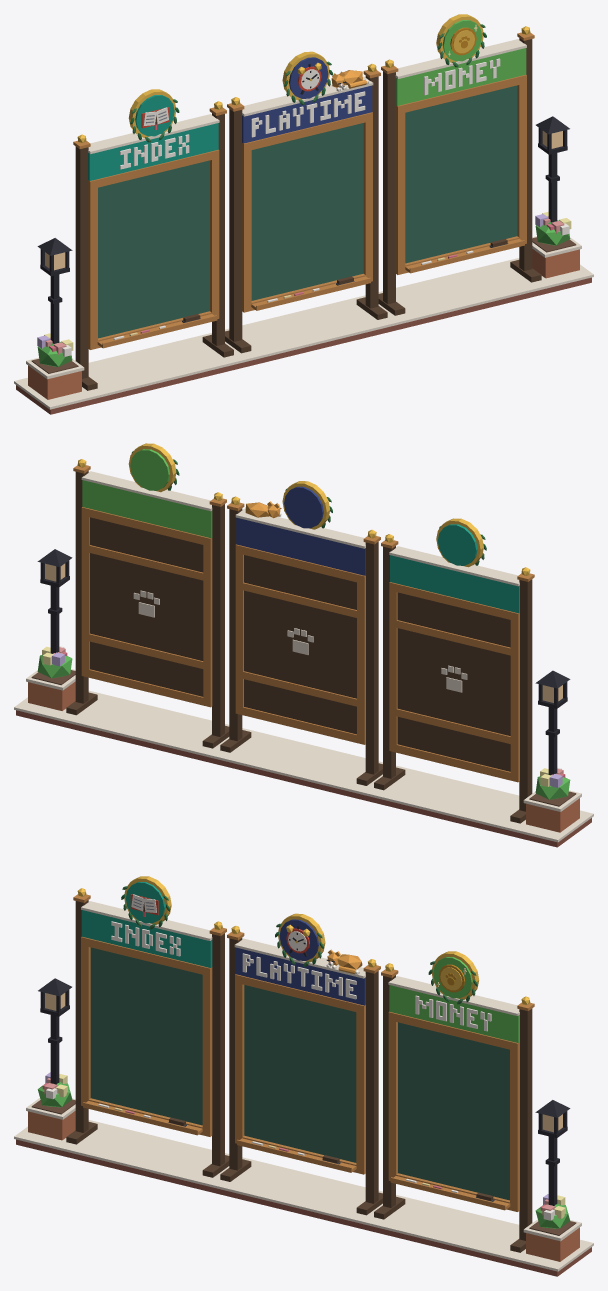
The model's file is CatCafe_Town_LeaderboardRow.glb.
3 renders of one model, top to bottom at view 1: azimuth 30°, elevation 25°; view 2: azimuth 150°, elevation 25°; view 3: azimuth 330°, elevation 25°, orthographic.
Visible parts, largest first — view 1: CatCafe_Town_LeaderboardRow, CatCafe_Town_LeaderboardRow_Playtime, CatCafe_Town_LeaderboardRow_Money, CatCafe_Town_LeaderboardRow_Index, CatCafe_Town_LeaderboardRow_Playtime_Screen, CatCafe_Town_LeaderboardRow_Money_Screen, CatCafe_Town_LeaderboardRow_Index_Screen, CatCafe_Town_LeaderboardRow_Flowers, CatCafe_Town_LeaderboardRow_Lamp_Bulb; view 2: CatCafe_Town_LeaderboardRow_Playtime, CatCafe_Town_LeaderboardRow_Money, CatCafe_Town_LeaderboardRow_Index, CatCafe_Town_LeaderboardRow, CatCafe_Town_LeaderboardRow_Flowers, CatCafe_Town_LeaderboardRow_Lamp_Bulb; view 3: CatCafe_Town_LeaderboardRow, CatCafe_Town_LeaderboardRow_Playtime, CatCafe_Town_LeaderboardRow_Index, CatCafe_Town_LeaderboardRow_Money, CatCafe_Town_LeaderboardRow_Index_Screen, CatCafe_Town_LeaderboardRow_Playtime_Screen, CatCafe_Town_LeaderboardRow_Money_Screen, CatCafe_Town_LeaderboardRow_Flowers, CatCafe_Town_LeaderboardRow_Lamp_Bulb.
Part boxes in pixels (x1=…): CatCafe_Town_LeaderboardRow: x1=14, y1=116, x2=593, y2=414; CatCafe_Town_LeaderboardRow_Playtime: x1=225, y1=51, x2=387, y2=353; CatCafe_Town_LeaderboardRow_Money: x1=378, y1=14, x2=541, y2=315; CatCafe_Town_LeaderboardRow_Index: x1=73, y1=89, x2=233, y2=390; CatCafe_Town_LeaderboardRow_Playtime_Screen: x1=251, y1=123, x2=363, y2=300; CatCafe_Town_LeaderboardRow_Money_Screen: x1=405, y1=85, x2=517, y2=263; CatCafe_Town_LeaderboardRow_Index_Screen: x1=98, y1=160, x2=209, y2=338; CatCafe_Town_LeaderboardRow_Flowers: x1=37, y1=211, x2=571, y2=356; CatCafe_Town_LeaderboardRow_Lamp_Bulb: x1=45, y1=131, x2=562, y2=270; CatCafe_Town_LeaderboardRow_Playtime: x1=220, y1=481, x2=382, y2=785; CatCafe_Town_LeaderboardRow_Money: x1=66, y1=443, x2=229, y2=748; CatCafe_Town_LeaderboardRow_Index: x1=374, y1=518, x2=534, y2=823; CatCafe_Town_LeaderboardRow: x1=14, y1=549, x2=593, y2=847; CatCafe_Town_LeaderboardRow_Flowers: x1=42, y1=646, x2=565, y2=787; CatCafe_Town_LeaderboardRow_Lamp_Bulb: x1=45, y1=563, x2=562, y2=702; CatCafe_Town_LeaderboardRow: x1=14, y1=978, x2=593, y2=1276; CatCafe_Town_LeaderboardRow_Playtime: x1=220, y1=913, x2=382, y2=1215; CatCafe_Town_LeaderboardRow_Index: x1=66, y1=876, x2=229, y2=1177; CatCafe_Town_LeaderboardRow_Money: x1=374, y1=951, x2=534, y2=1252; CatCafe_Town_LeaderboardRow_Index_Screen: x1=90, y1=947, x2=202, y2=1125; CatCafe_Town_LeaderboardRow_Playtime_Screen: x1=244, y1=985, x2=356, y2=1162; CatCafe_Town_LeaderboardRow_Money_Screen: x1=398, y1=1022, x2=509, y2=1200; CatCafe_Town_LeaderboardRow_Flowers: x1=42, y1=1072, x2=565, y2=1220; CatCafe_Town_LeaderboardRow_Lamp_Bulb: x1=45, y1=993, x2=562, y2=1132.
Size of the model in its own units: 23.78 by 11.89 by 2.72.
Materials: 1 (1 with a texture image).
